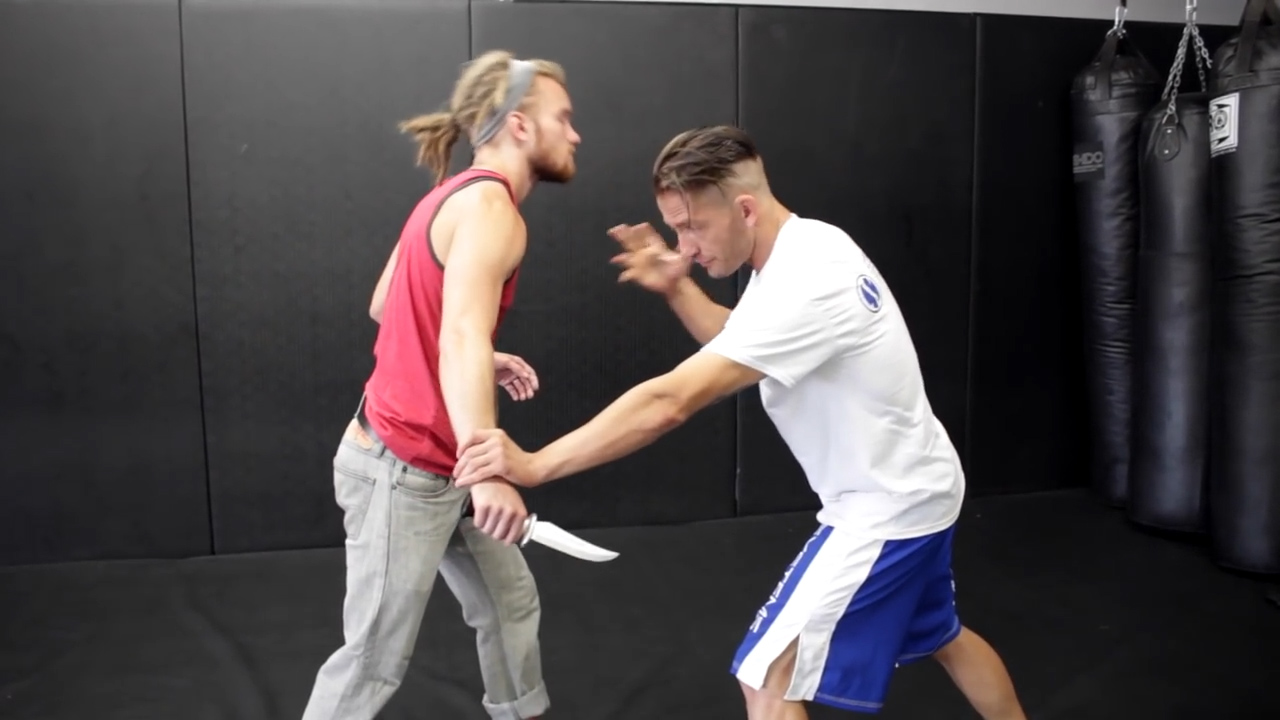knife: (450, 487, 634, 578)
